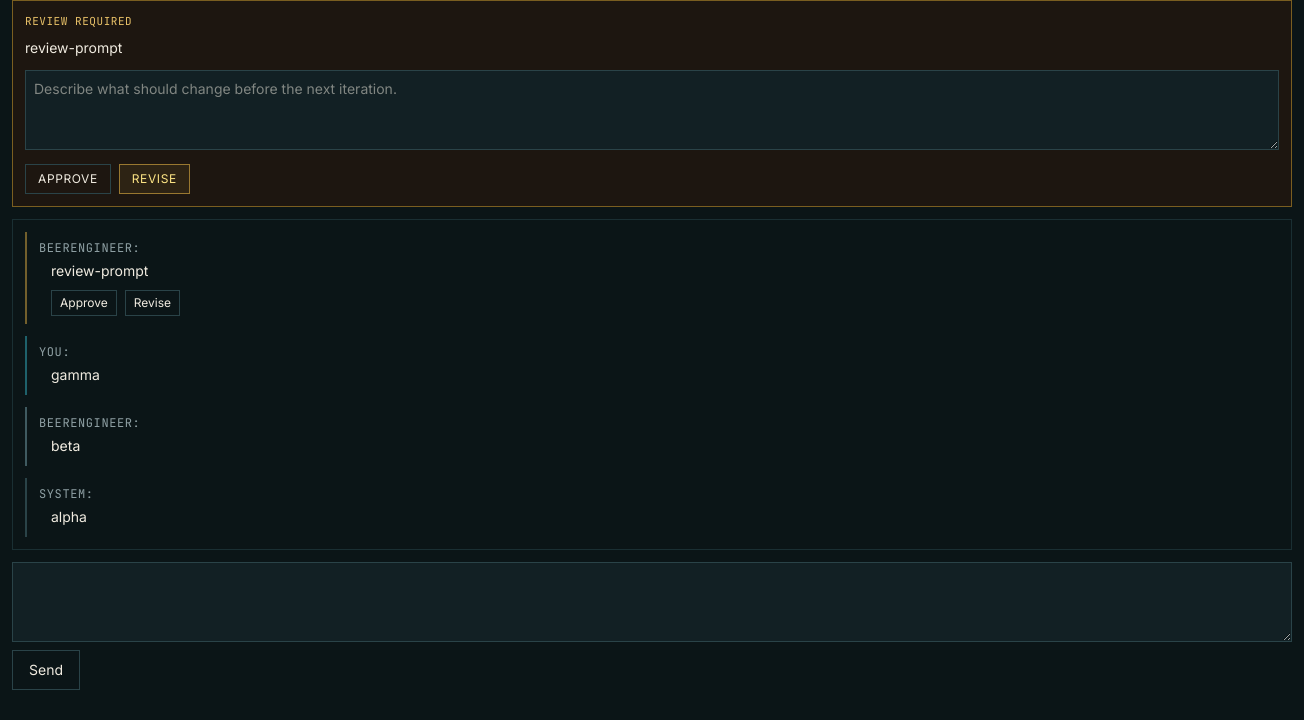
Scenario: ChatPanel review-gate actions › TC-5.3c: clicking Revise without feedback does not send and shows validation
Step 1. Click the button with test id "chat-review-revise" → (154, 178), box [119,164,190,194]
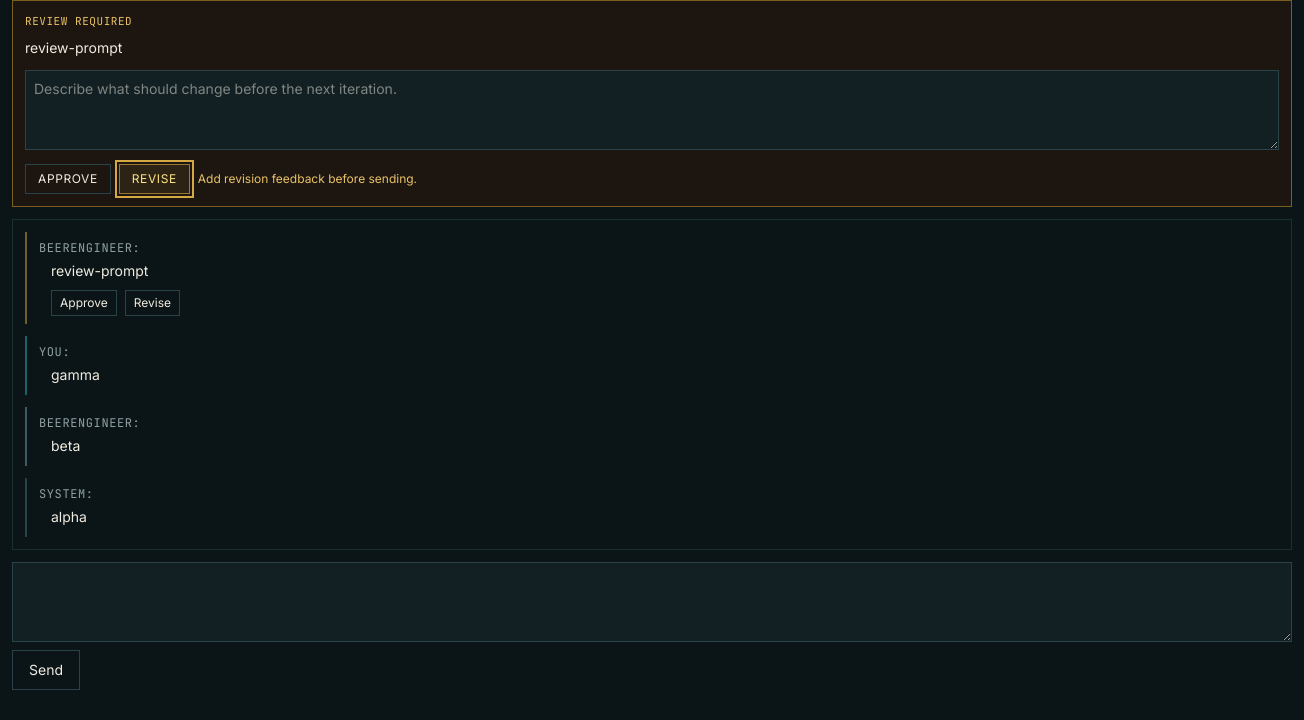
Result: the text "Add revision feedback before sending." is shown at [198,170,417,186]
